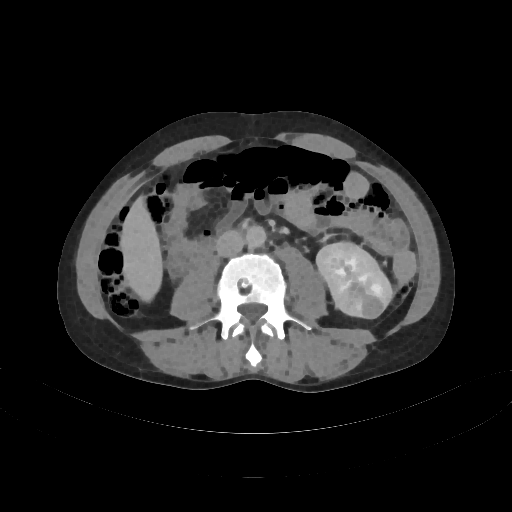Lesion: (359, 291, 388, 321)
